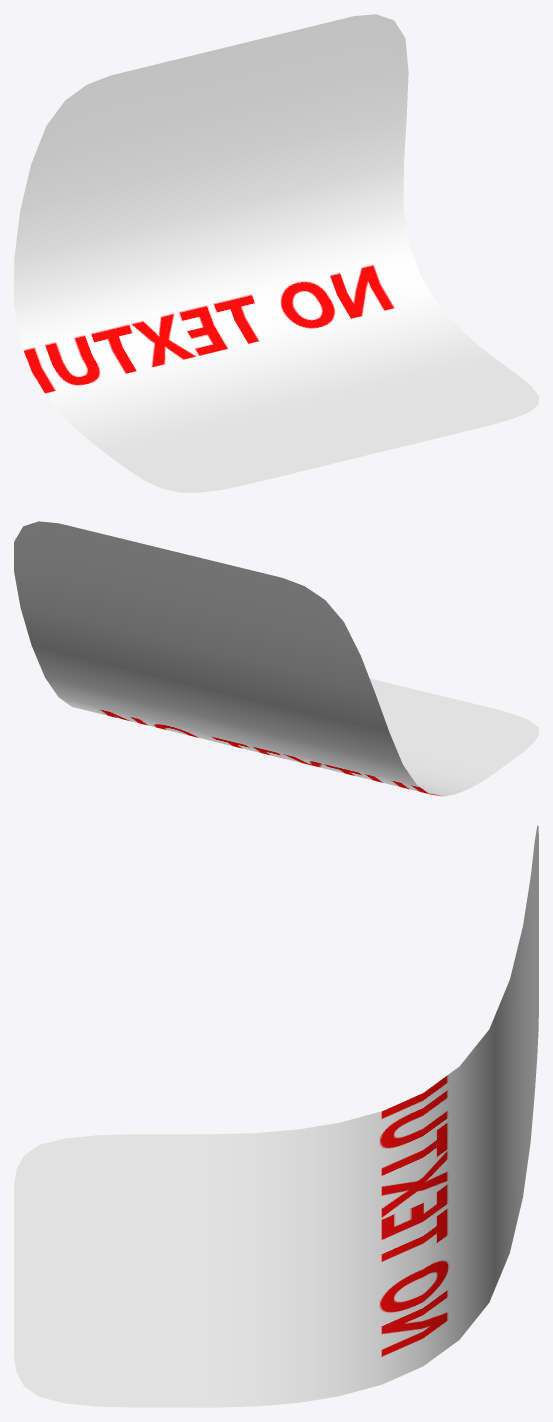
The model's file is backdrop.obj.
The picture shows the model from 3 angles, top to bottom: view 1: azimuth 30°, elevation 25°; view 2: azimuth 150°, elevation 25°; view 3: azimuth 270°, elevation 25°; orthographic projection. The views are drawn at different scales.
Visible parts, largest first — view 1: 1; view 2: 1; view 3: 1.
Part boxes in pixels (left/top/right/bottom): 1: left=14, top=14, right=538, bottom=492; 1: left=14, top=521, right=538, bottom=796; 1: left=14, top=825, right=538, bottom=1407.
Size of the model in its own units: 12.79 by 7.77 by 9.73.
